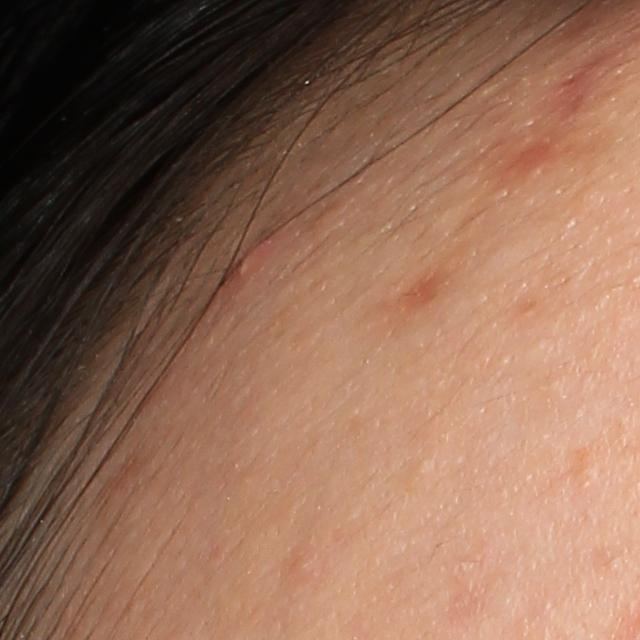comedo: (575, 450, 604, 488), (600, 553, 628, 578), (411, 454, 435, 476)
